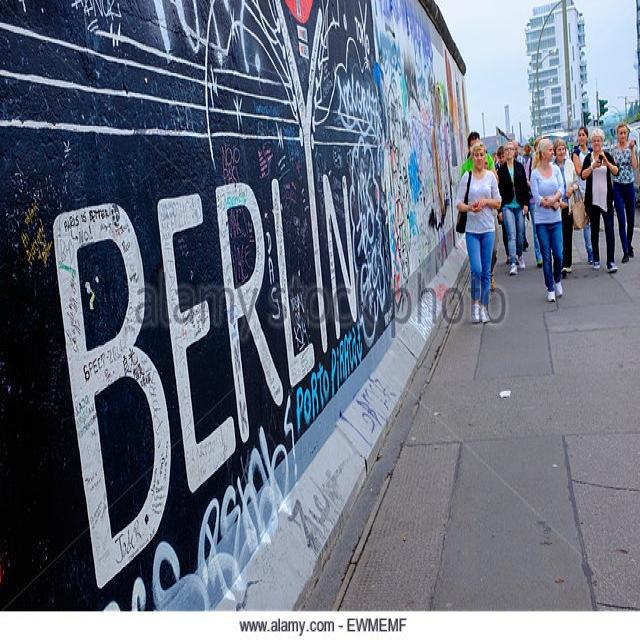body: (455, 142, 504, 325), (459, 130, 500, 294), (579, 123, 621, 275), (529, 136, 566, 304), (495, 138, 531, 274), (606, 120, 639, 262), (551, 137, 580, 278), (525, 135, 552, 269), (570, 124, 595, 265), (494, 144, 521, 264), (509, 138, 527, 166), (522, 142, 533, 164), (488, 152, 496, 163)
